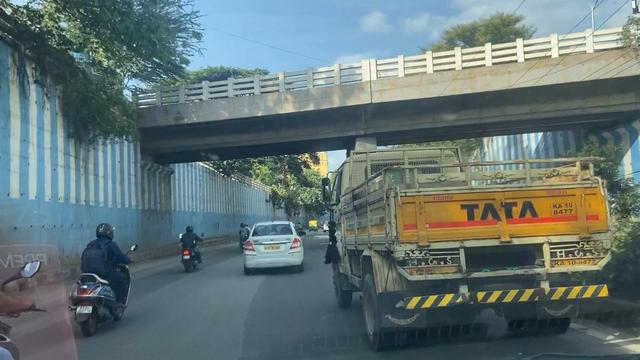HMV: (321, 147, 588, 328)
LMV: (68, 221, 129, 332), (244, 218, 306, 274)
